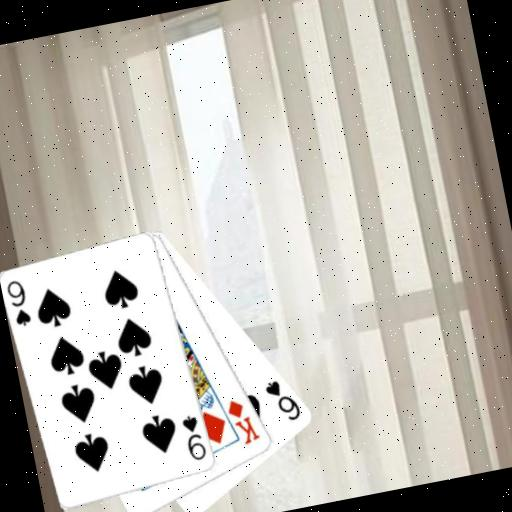6S: (261, 374, 305, 427)
9S: (178, 410, 210, 464), (3, 276, 34, 330)
KD: (223, 393, 264, 449)
